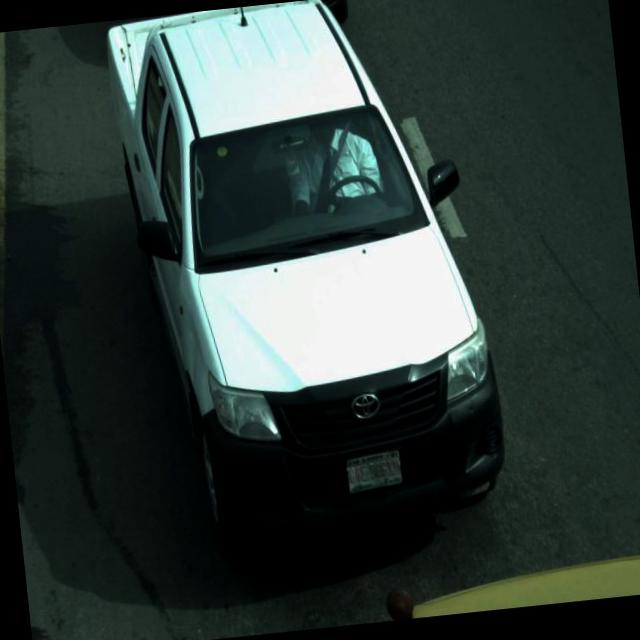person_with_seatbelt: (274, 103, 388, 228)
